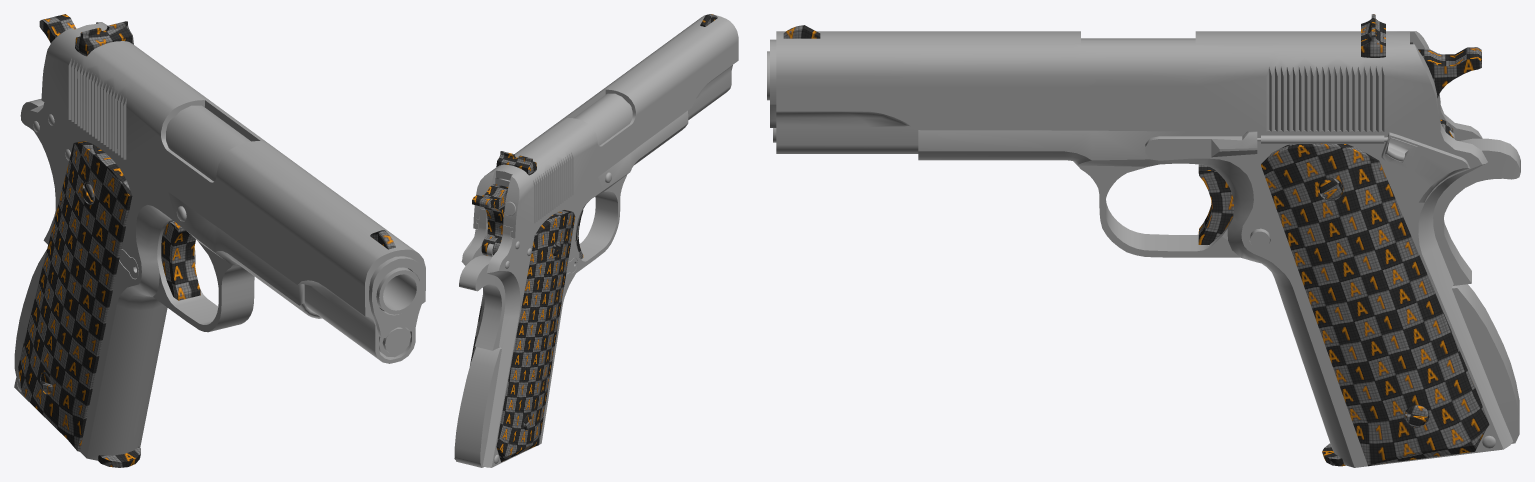
File: Baretta_LP.fbx
3 renders of one model, left to right at view 1: azimuth 30°, elevation 25°; view 2: azimuth 150°, elevation 25°; view 3: azimuth 270°, elevation 25°, orthographic. The views are drawn at different scales.
Parts seen in each view (by area): view 1: Baretta_Main_LP1, Baretta_Slide_Lp, Slide_Cover, Baretta_Trigger_LP, Baretta_Barrel_LP, Hammer_LP, Baretta_Mag_LP; view 2: Baretta_Main_LP1, Baretta_Slide_Lp, Slide_Cover, Hammer_LP; view 3: Baretta_Main_LP1, Baretta_Slide_Lp, Baretta_Trigger_LP, Hammer_LP, Slide_Cover.
Boxes of the visible parts, x1=… form: Baretta_Main_LP1: x1=14, y1=98, x2=322, y2=460; Baretta_Slide_Lp: x1=41, y1=21, x2=425, y2=363; Slide_Cover: x1=166, y1=105, x2=250, y2=181; Baretta_Trigger_LP: x1=161, y1=220, x2=200, y2=300; Baretta_Barrel_LP: x1=376, y1=267, x2=420, y2=314; Hammer_LP: x1=39, y1=14, x2=76, y2=43; Baretta_Mag_LP: x1=97, y1=447, x2=140, y2=467; Baretta_Main_LP1: x1=454, y1=110, x2=688, y2=467; Baretta_Slide_Lp: x1=473, y1=14, x2=738, y2=238; Slide_Cover: x1=574, y1=93, x2=632, y2=145; Hammer_LP: x1=472, y1=184, x2=508, y2=255; Baretta_Main_LP1: x1=918, y1=85, x2=1520, y2=467; Baretta_Slide_Lp: x1=770, y1=14, x2=1440, y2=153; Baretta_Trigger_LP: x1=1198, y1=164, x2=1233, y2=244; Hammer_LP: x1=1418, y1=47, x2=1481, y2=137; Slide_Cover: x1=1081, y1=38, x2=1195, y2=45.
Bounding box in the file's own units: 94.51 × 458 × 722.
Materials: 2 (1 with a texture image).
